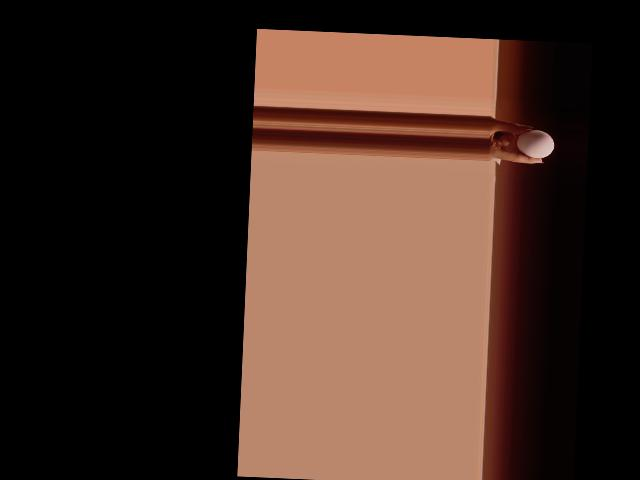egg: (515, 128, 554, 158)
